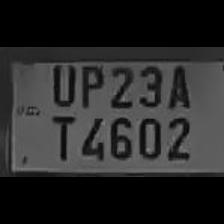0: (134, 112, 162, 160)
2: (104, 61, 136, 109), (162, 112, 192, 162)
3: (136, 61, 164, 109)
4: (75, 111, 105, 160)
6: (106, 111, 132, 160)
A: (164, 59, 192, 111)
P: (75, 60, 105, 110)
T: (45, 110, 76, 162)
U: (45, 57, 76, 106)
